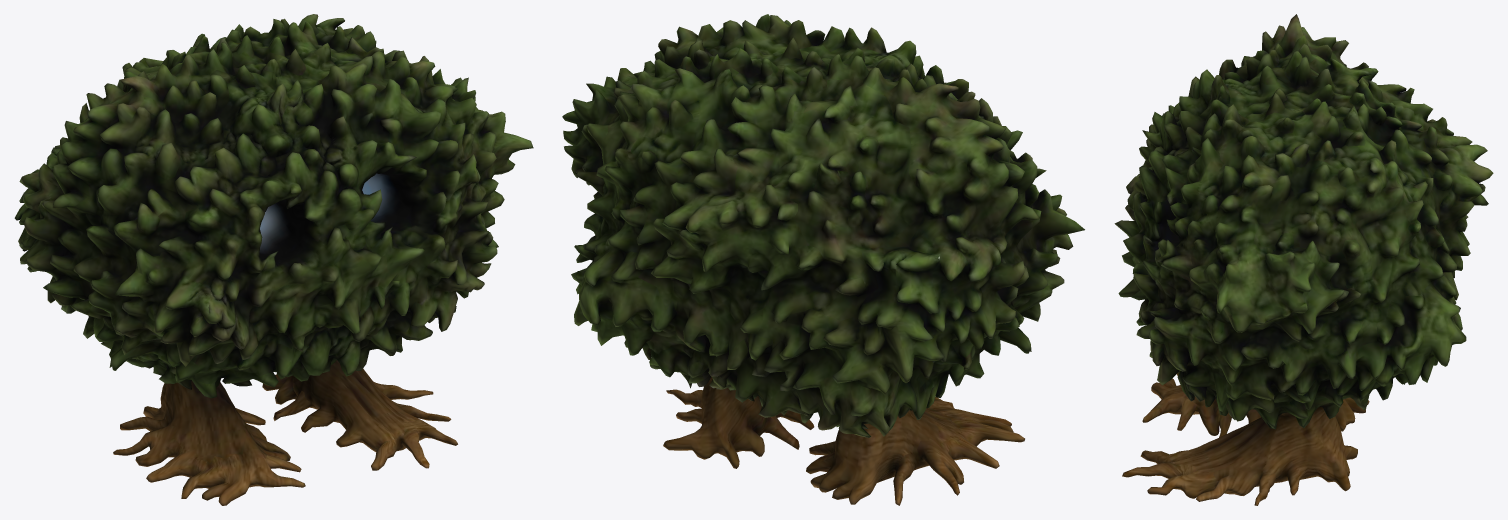
The model's file is MZ4250 - Awakened Shrub.glb.
The picture shows the model from 3 angles, left to right: view 1: azimuth 30°, elevation 25°; view 2: azimuth 150°, elevation 25°; view 3: azimuth 270°, elevation 25°; orthographic projection. The views are drawn at different scales.
Parts seen in each view (by area): view 1: Body.001; view 2: Body.001; view 3: Body.001.
Part boxes in pixels (bbox=[...]): Body.001: bbox=[14, 14, 533, 505]; Body.001: bbox=[562, 14, 1084, 505]; Body.001: bbox=[1114, 14, 1493, 505].
Bounding box in the file's own units: 0.8405 × 0.6936 × 0.6356.
Materials: 1 (1 with a texture image).
